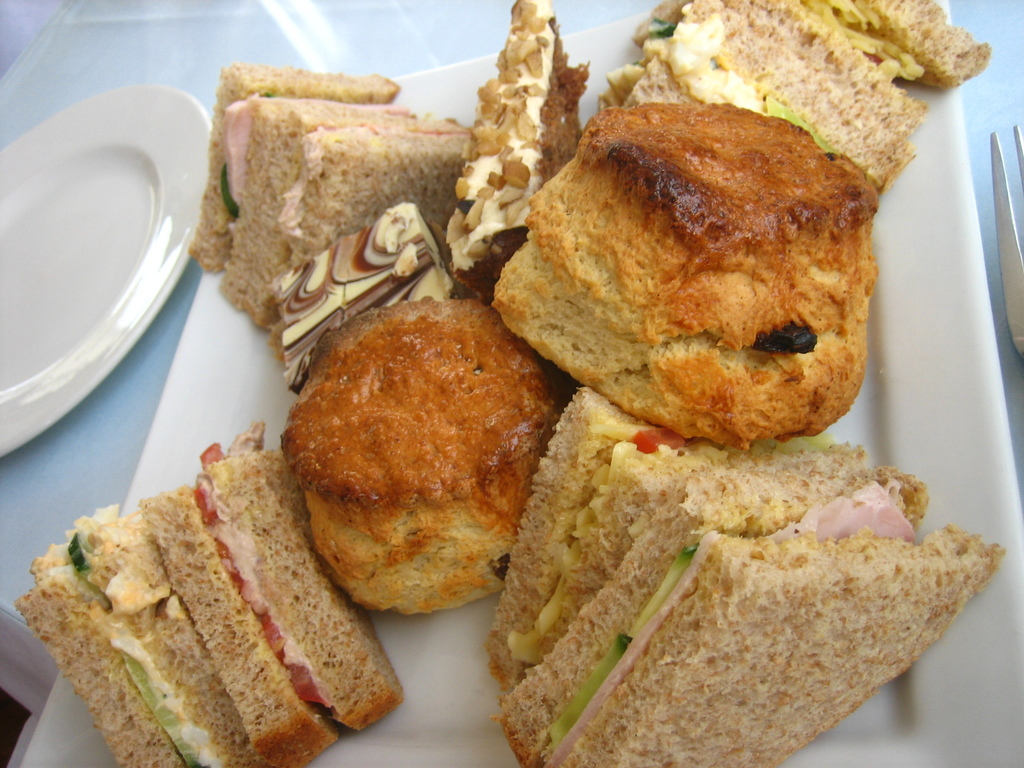sandwich: (10, 0, 1009, 767)
